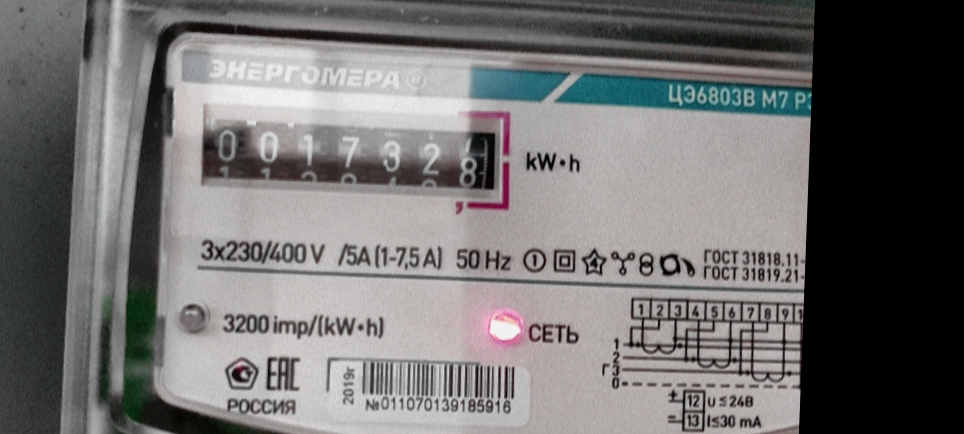0: (216, 126, 240, 163), (258, 129, 279, 164)
1: (301, 130, 317, 167)
2: (419, 141, 441, 177)
3: (379, 138, 403, 174)
7: (337, 132, 362, 170)
8: (457, 153, 478, 189)
screen: (190, 100, 516, 213)
